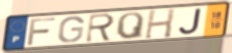F: (26, 16, 58, 46)
G: (57, 15, 86, 44)
H: (143, 8, 177, 40)
J: (177, 7, 204, 36)
Q: (115, 11, 146, 40)
R: (84, 12, 117, 44)
